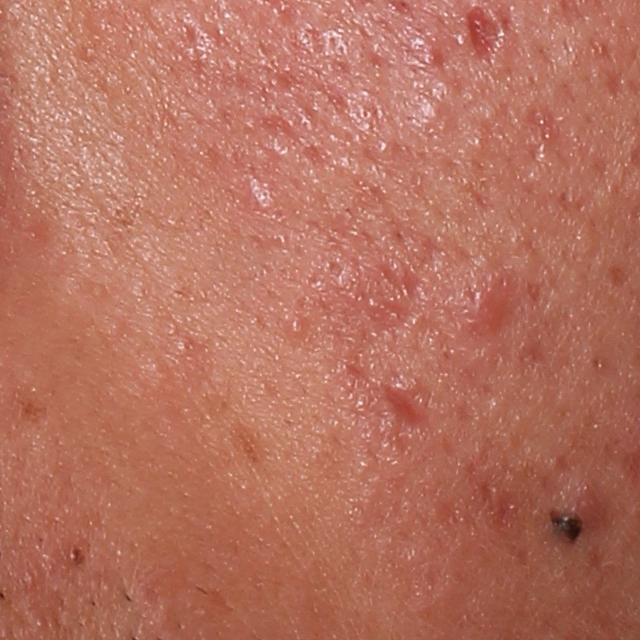atrophic_scar: (463, 4, 502, 70), (382, 382, 429, 427)
comedo: (584, 353, 608, 375)
papule: (460, 278, 508, 327)
